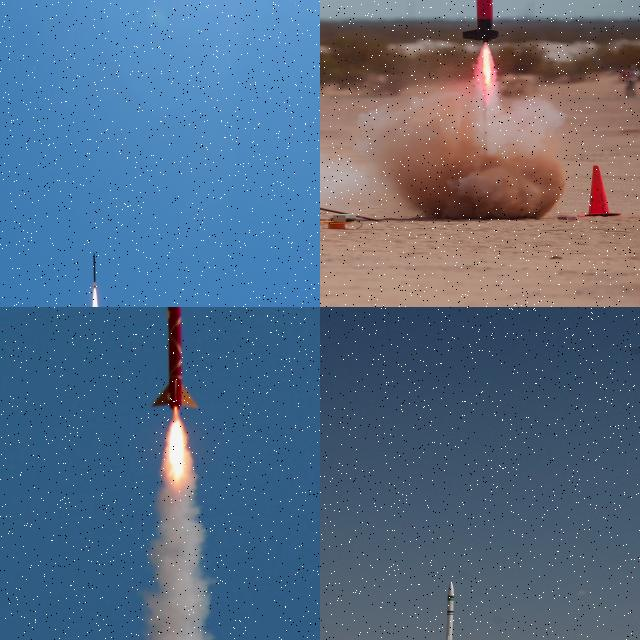Rocket: (151, 307, 197, 410), (462, 0, 502, 45), (438, 581, 455, 640), (92, 251, 97, 288)
